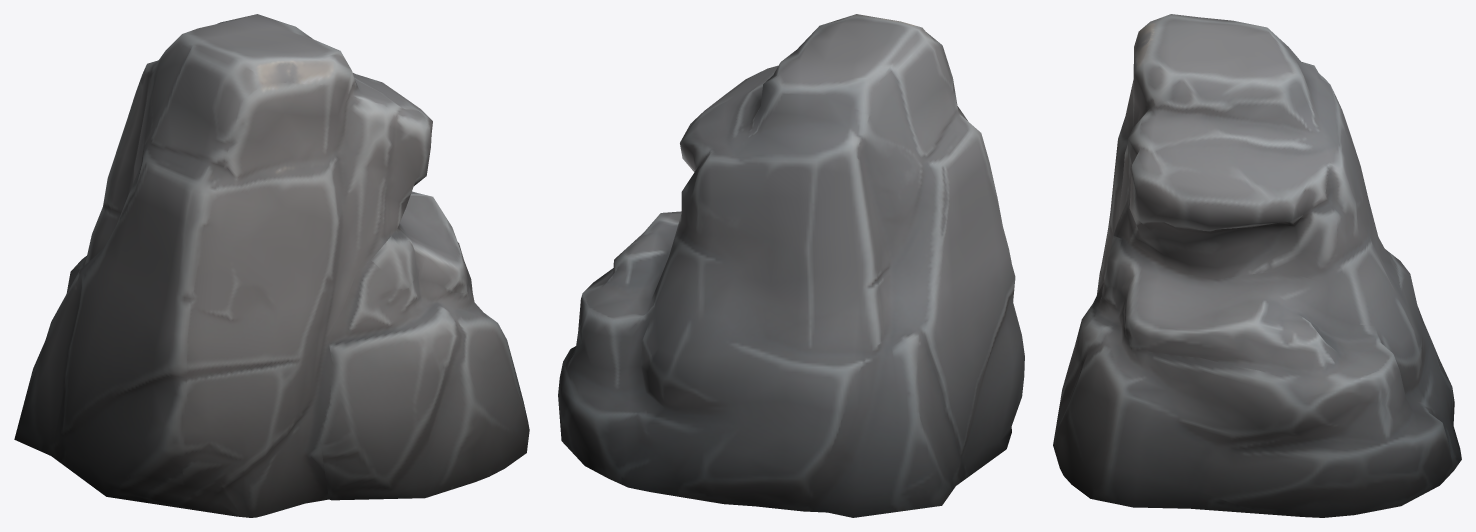
Rendered from rock_sticking_out_001.fbx.
The picture shows the model from 3 angles, left to right: view 1: azimuth 30°, elevation 25°; view 2: azimuth 150°, elevation 25°; view 3: azimuth 270°, elevation 25°; orthographic projection. The views are drawn at different scales.
Visible parts, largest first — view 1: rock_sticking_out_001; view 2: rock_sticking_out_001; view 3: rock_sticking_out_001.
Part boxes in pixels (x1,y1,x2,y2): rock_sticking_out_001: (14, 14, 529, 517); rock_sticking_out_001: (558, 14, 1024, 517); rock_sticking_out_001: (1053, 14, 1461, 517).
Size of the model in its own units: 2.52 by 2.43 by 2.39.
